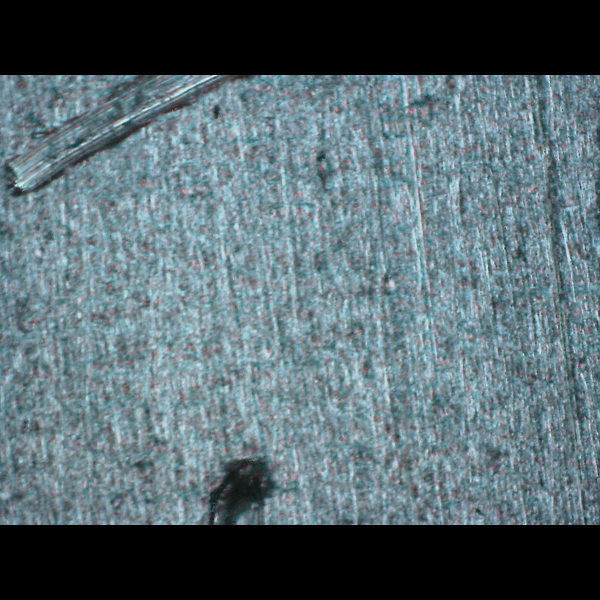d: (4, 75, 268, 206), (200, 450, 286, 525)
